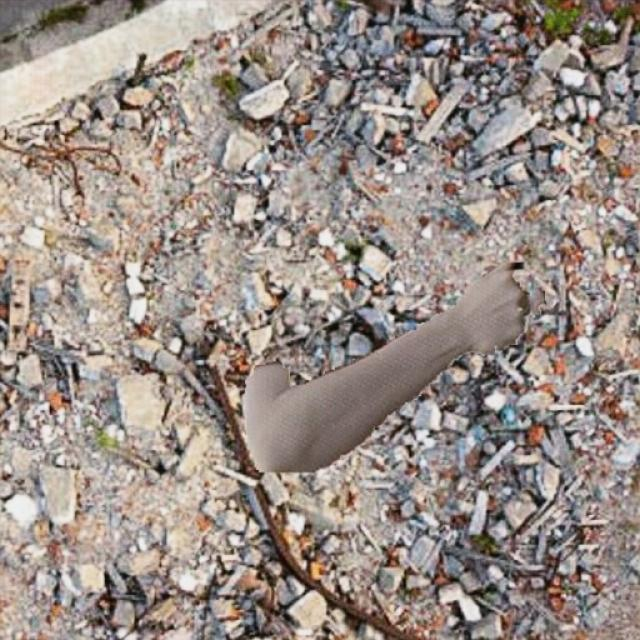Person in Rubble: (241, 263, 545, 472)
